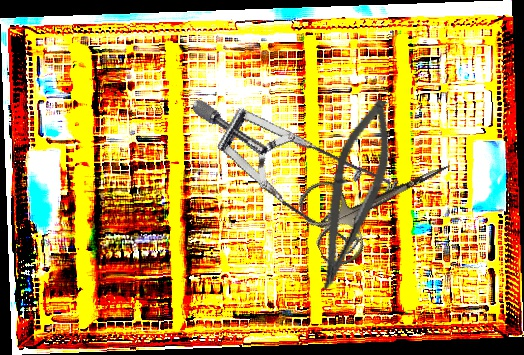Iris Scissors: (293, 128, 469, 272)
Micro Scissor: (308, 93, 403, 298)
Speculum: (190, 37, 417, 288)
